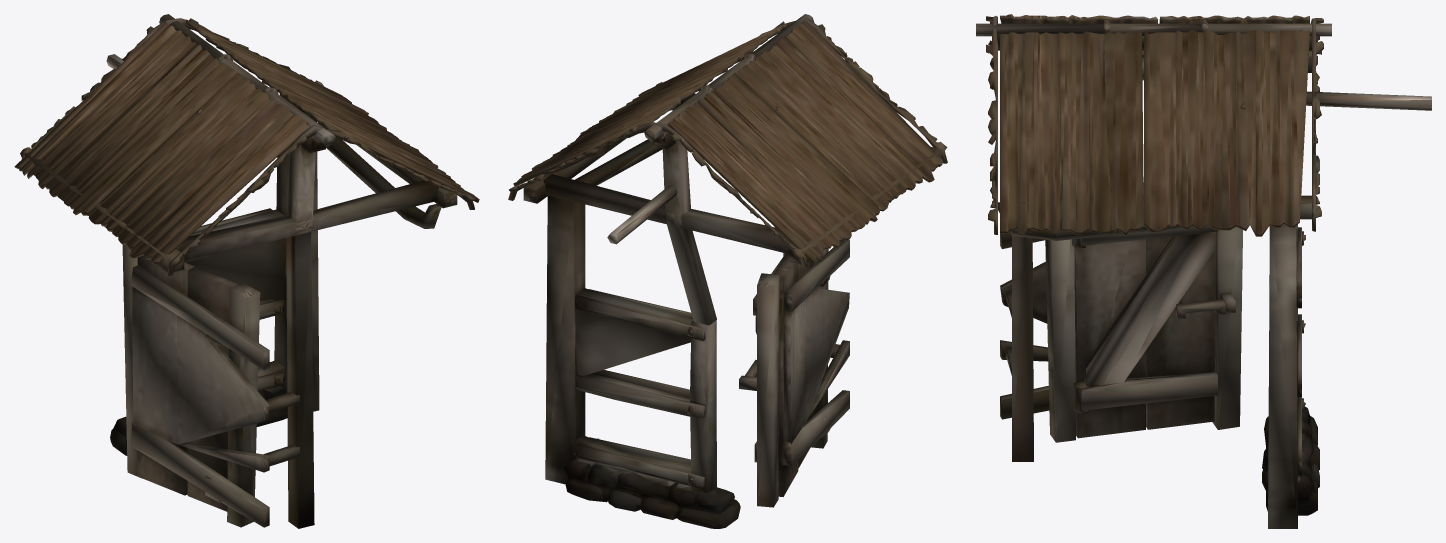
The model's file is settlement-gate.glb.
3 views of the same model, side by side, from view 1: azimuth 30°, elevation 25°; view 2: azimuth 150°, elevation 25°; view 3: azimuth 270°, elevation 25° (orthographic). The views are drawn at different scales.
Parts seen in each view (by area): view 1: tripo_part_0; view 2: tripo_part_0; view 3: tripo_part_0.
Part boxes in pixels (x1,y1,x2,y2): tripo_part_0: [14, 14, 479, 528]; tripo_part_0: [508, 14, 947, 528]; tripo_part_0: [976, 14, 1431, 528].
Bounding box in the file's own units: 0.4051 × 0.4834 × 0.4462.
1 material, 1 textured.
